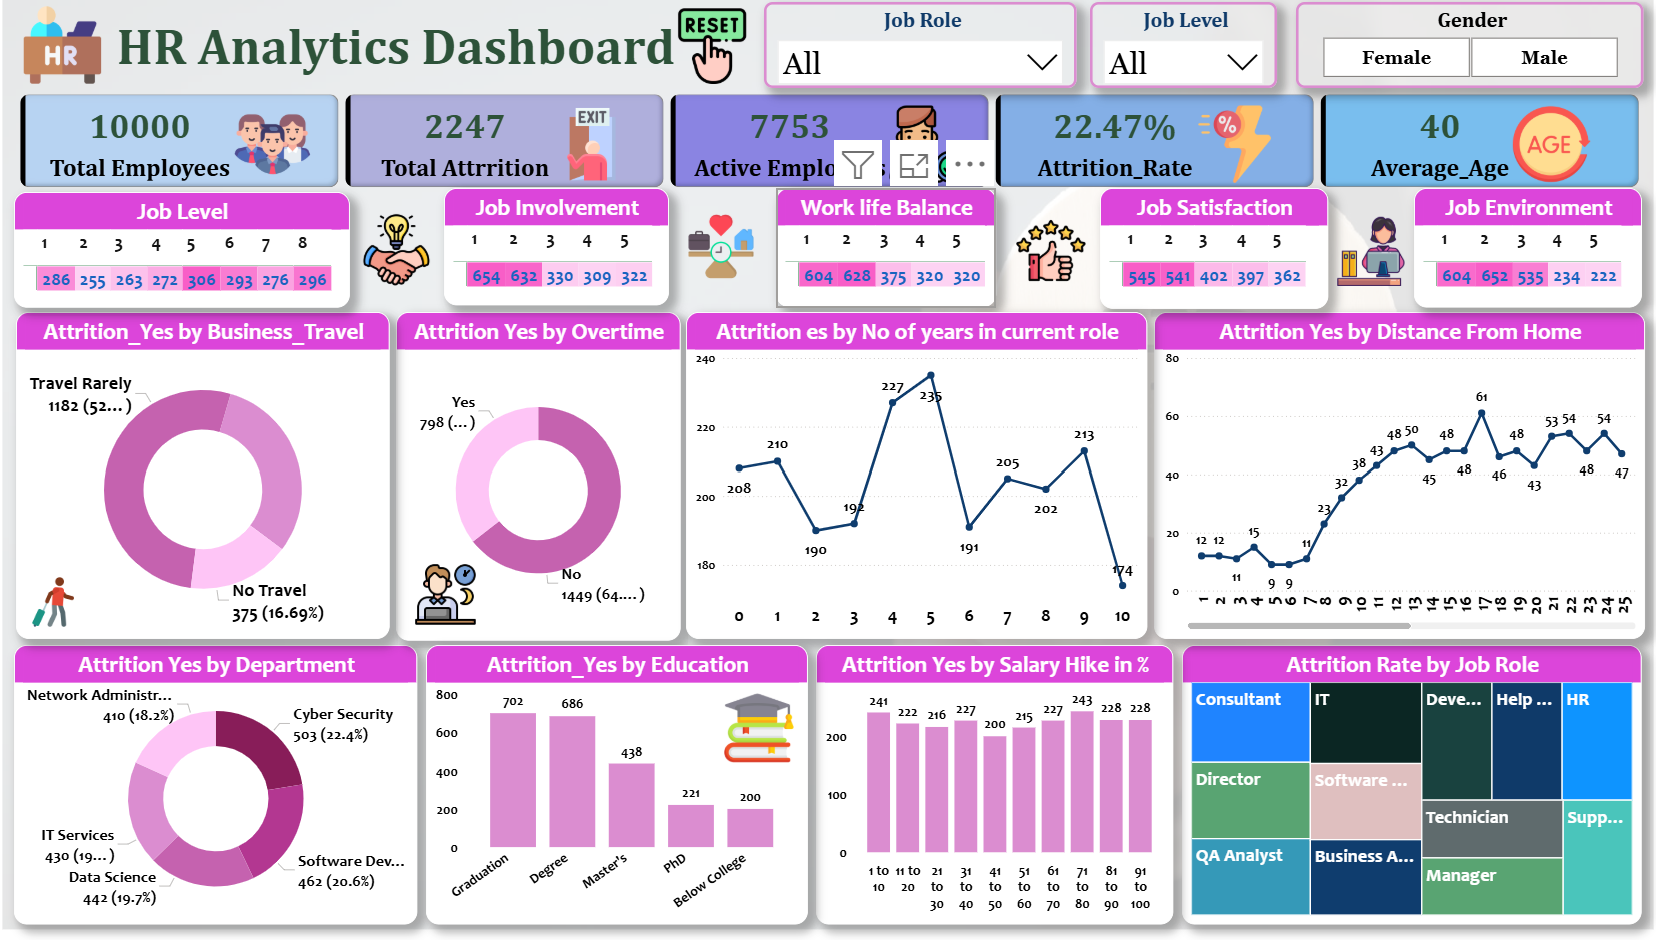

What the dashboard file says about the page in this screenshot:
{"tool":"powerbi","page":{"name":"Page 1","canvas":[2000,1200],"ordinal":0},"visuals":[{"type":"cardVisual","fields":{"Data":["CountNonNull(hr_attrition employees.ï»¿Employee_ID)","Employees.Attrition_Yes","Employees.Attrition_No","Employees.Attrition_Rate","Employees.Average_Age"]},"box":[55.8,160.5,1895.3,118.6],"z":0},{"type":"donutChart","title":"Attrition Yes by Department","fields":{"Category":["Employees.Department"],"Y":["Employees.Attrition_Yes"]},"box":[53.8,805.8,469.2,325],"z":1000},{"type":"treemap","title":"Attrition Rate by Job Role","fields":{"Group":["Employees.Job_Role"],"Values":["Employees.Attrition_Yes"]},"box":[1411.5,805.8,534.6,325],"z":2000},{"type":"lineChart","title":"Attrition Yes by Distance From Home","fields":{"Category":["Employees.Distance_From_Home"],"Y":["Employees.Attrition_Yes"]},"box":[1378.8,419.2,571.2,378.8],"z":3000},{"type":"donutChart","title":"Attrition Yes by Overtime","fields":{"Category":["Employees.Overtime"],"Y":["Employees.Attrition_Yes"]},"box":[497.4,419.6,330.8,380.8],"z":4000},{"type":"pivotTable","title":"Job Satisfaction","fields":{"Columns":["Employees.Job_Satisfaction"],"Values":["Employees.Attrition_Yes"]},"box":[1317.3,275,265.4,140.4],"z":5000},{"type":"pivotTable","title":"Job Environment","fields":{"Columns":["Employees.Environment_Satisfaction"],"Values":["Employees.Attrition_Yes"]},"box":[1680.8,275.3,265.2,139.1],"z":6000},{"type":"pivotTable","title":"Work life Balance","fields":{"Columns":["Employees.Work_life_balance"],"Values":["Employees.Attrition_Yes"]},"box":[938.5,275,255.8,138.5],"z":7000},{"type":"donutChart","fields":{"Category":["Employees.Business_Travel"],"Y":["Employees.Attrition_Yes"]},"box":[55.8,419.6,434.6,378.8],"z":8000},{"type":"lineChart","title":"Attrition es by No of years in current role","fields":{"Category":["Employees.No_of_years_in_current_role"],"Y":["Employees.Attrition_Yes"]},"box":[834.6,419.2,536.5,378.8],"z":9000},{"type":"columnChart","title":"Attrition Yes by Salary Hike in %","fields":{"Category":["Employees.Salary_Hike_in_percent (groups)"],"Y":["Employees.Attrition_Yes"]},"box":[986.5,805.8,415.4,325],"z":10000},{"type":"columnChart","fields":{"Category":["Employees.Education"],"Y":["Employees.Attrition_Yes"]},"box":[532.7,805.8,444.2,325],"z":11000},{"type":"pivotTable","title":"Job Involvement","fields":{"Columns":["Employees.Job_Involvement"],"Values":["Employees.Attrition_Yes"]},"box":[553.8,275,261.5,136.5],"z":12000},{"type":"pivotTable","title":"Job Level","fields":{"Columns":["Employees.Job_Level"],"Values":["Employees.Attrition_Yes"]},"box":[54,279.1,390.4,134.6],"z":13000},{"type":"image","box":[451.9,294.2,94.2,101.9],"z":14000},{"type":"textbox","box":[69.2,69.2,855.8,82.7],"z":15000},{"type":"image","box":[55.8,57.7,107.7,100],"z":16000},{"type":"image","box":[1213.5,294.2,90.4,103.8],"z":17000},{"type":"image","box":[1586.5,294.2,90.4,105.8],"z":18000},{"type":"image","box":[825,294.2,100,94.2],"z":19000},{"type":"image","box":[55.8,721.2,86.5,67.3],"z":20000},{"type":"image","box":[513.5,705.8,82.7,82.7],"z":21000},{"type":"image","box":[875,855.8,90.4,90.4],"z":22000},{"type":"slicer","title":"Gender","fields":{"Values":["Employees.Gender"]},"box":[1544.2,57.7,403.8,100],"z":23000},{"type":"slicer","title":"Job Role","fields":{"Values":["Employees.Job_Role"]},"box":[925,57.7,363.5,100],"z":24000},{"type":"slicer","title":"Job Level","fields":{"Values":["Employees.Job_Level"]},"box":[1305.8,57.7,217.3,100],"z":25000},{"type":"image","box":[815.4,61.5,98.1,98.1],"z":26000}]}

Visuals, with their boxes on the page's 2000x1200 design canvas (x1, y1, x2, y2). These are canvas units, not pixel positions in the 1656x940 screenshot, which may show the page scaled, cropped or inside an application window:
cardVisual - CountNonNull(hr_attrition employees.ï»¿Employee_ID) x Employees.Attrition_Yes: 56 160 1951 279
"Attrition Yes by Department" donutChart: 54 806 523 1131
"Attrition Rate by Job Role" treemap: 1412 806 1946 1131
"Attrition Yes by Distance From Home" lineChart: 1379 419 1950 798
"Attrition Yes by Overtime" donutChart: 497 420 828 800
"Job Satisfaction" pivotTable: 1317 275 1583 415
"Job Environment" pivotTable: 1681 275 1946 414
"Work life Balance" pivotTable: 938 275 1194 414
donutChart - Employees.Business_Travel x Employees.Attrition_Yes: 56 420 490 798
"Attrition es by No of years in current role" lineChart: 835 419 1371 798
"Attrition Yes by Salary Hike in %" columnChart: 986 806 1402 1131
columnChart - Employees.Education x Employees.Attrition_Yes: 533 806 977 1131
"Job Involvement" pivotTable: 554 275 815 412
"Job Level" pivotTable: 54 279 444 414
image: 452 294 546 396
textbox: 69 69 925 152
image: 56 58 164 158
image: 1214 294 1304 398
image: 1586 294 1677 400
image: 825 294 925 388
image: 56 721 142 788
image: 514 706 596 788
image: 875 856 965 946
"Gender" slicer: 1544 58 1948 158
"Job Role" slicer: 925 58 1288 158
"Job Level" slicer: 1306 58 1523 158
image: 815 62 914 160
